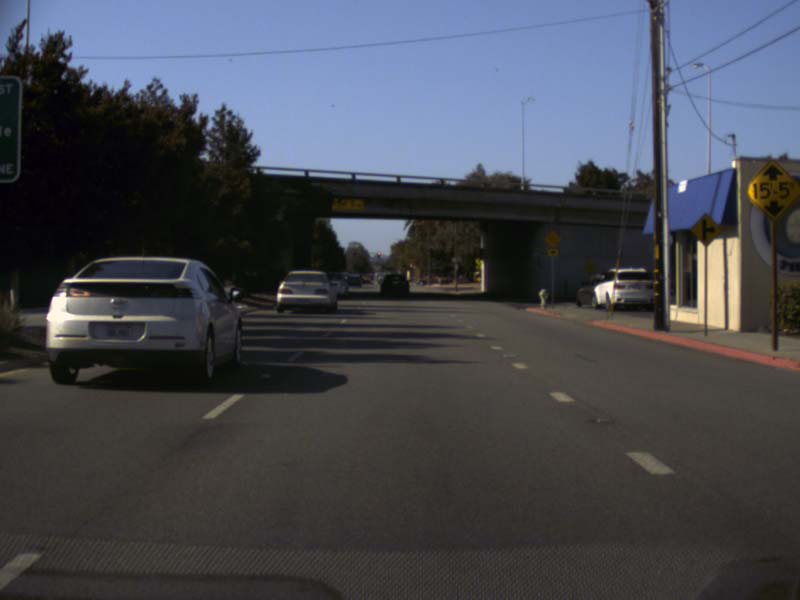Red: (376, 250, 381, 261)
